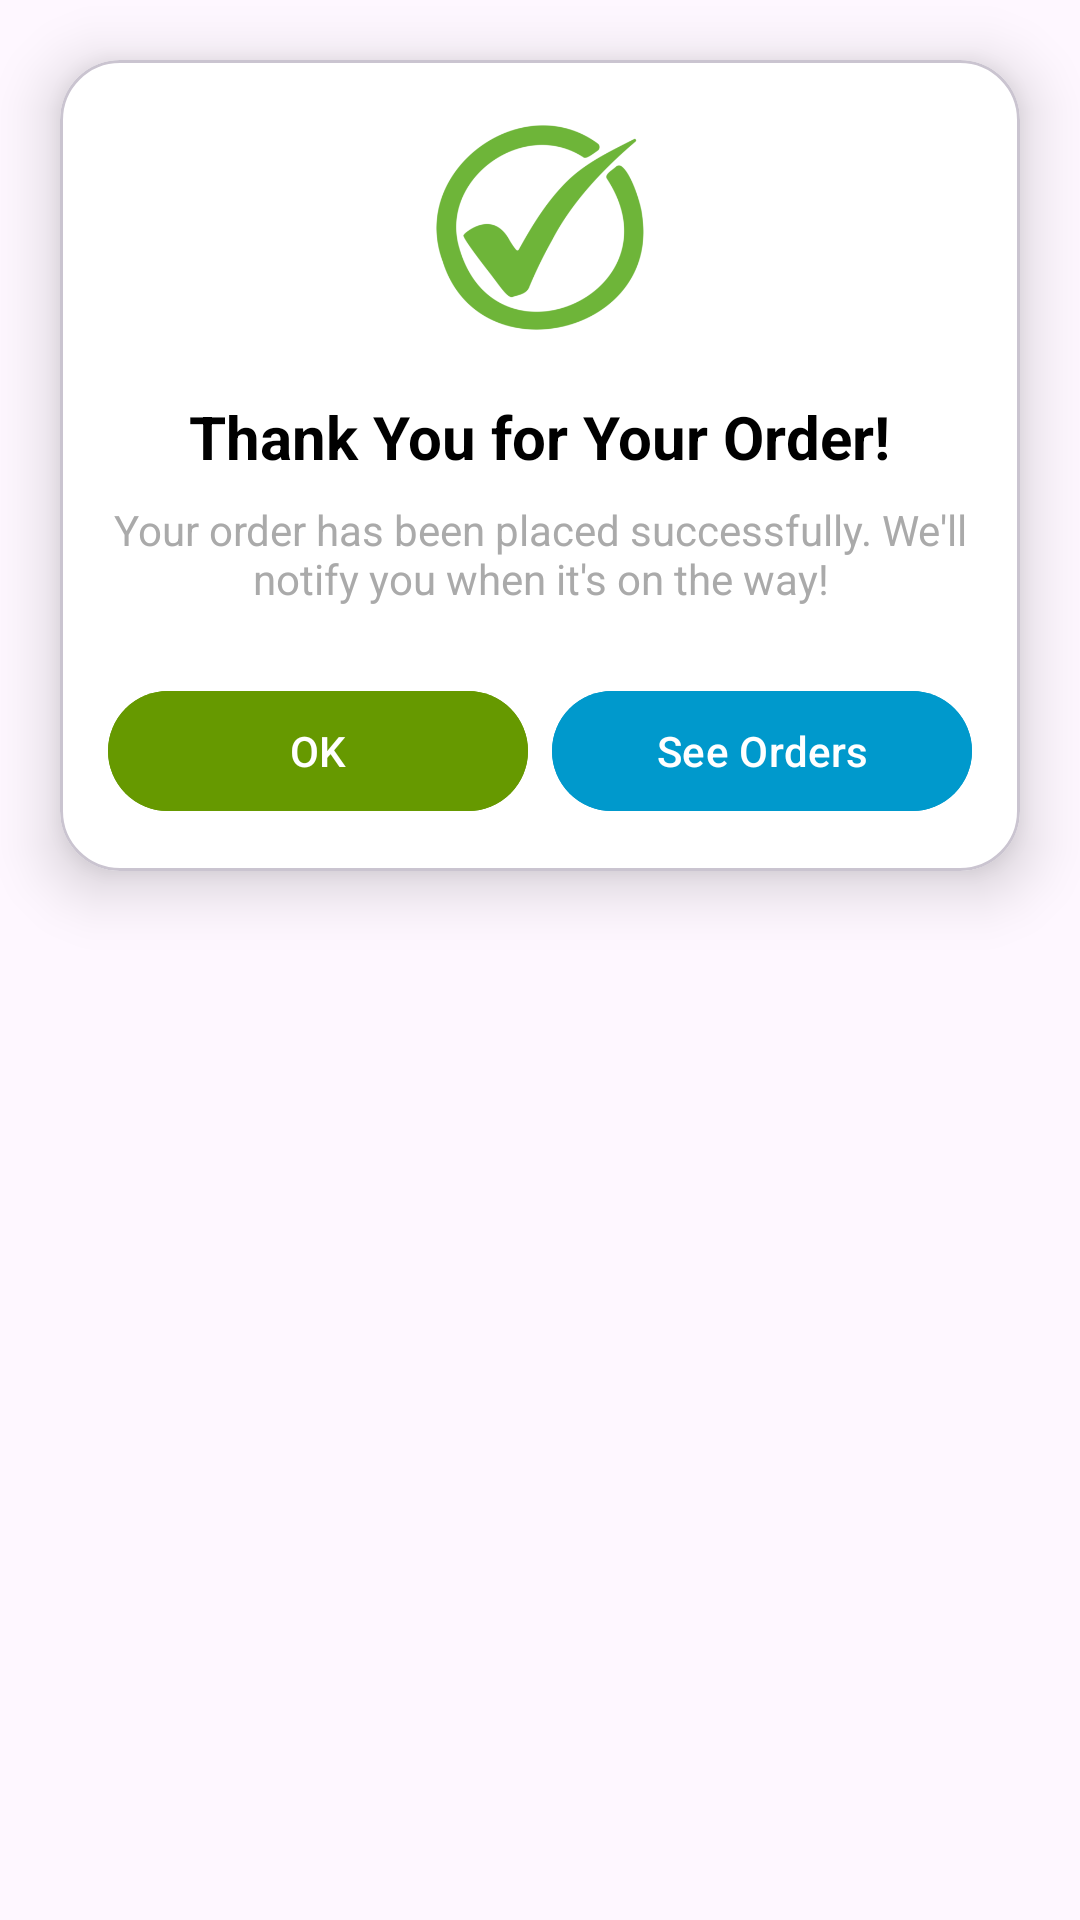

Icons on this 1080px×1920px Android screen, each with the point to tap as [x,y]:
Order Successful: [540,227]
